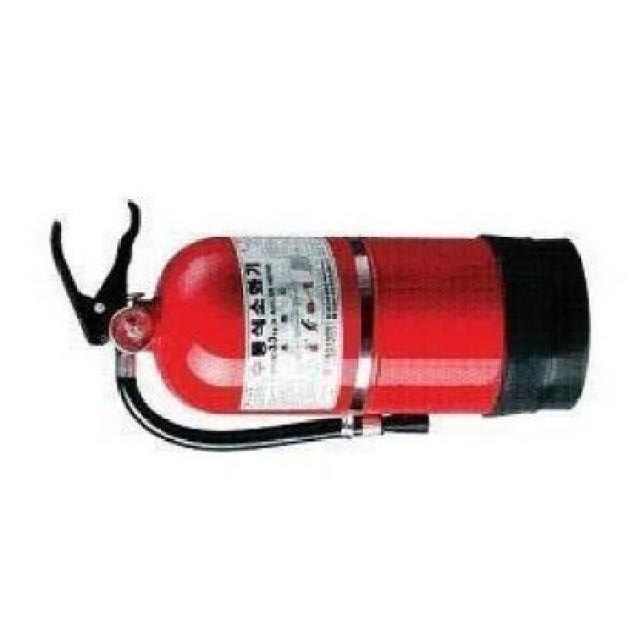fire extinguisher: (50, 199, 592, 453)
